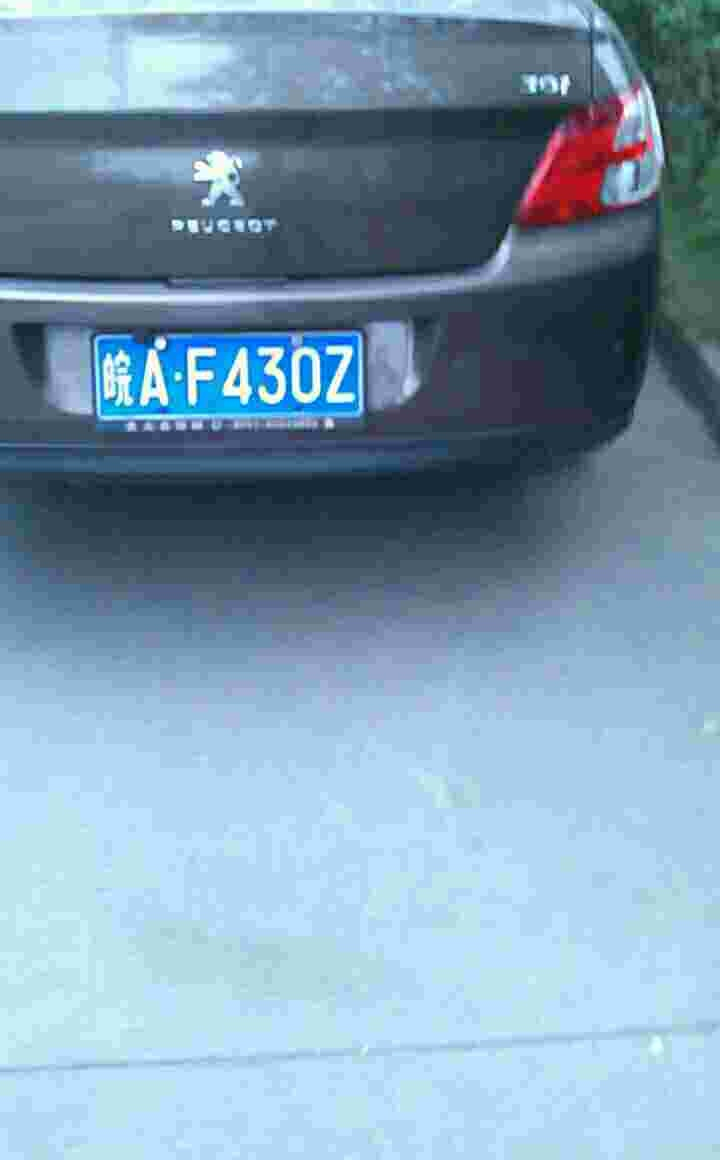license_plate: (91, 329, 375, 427)
